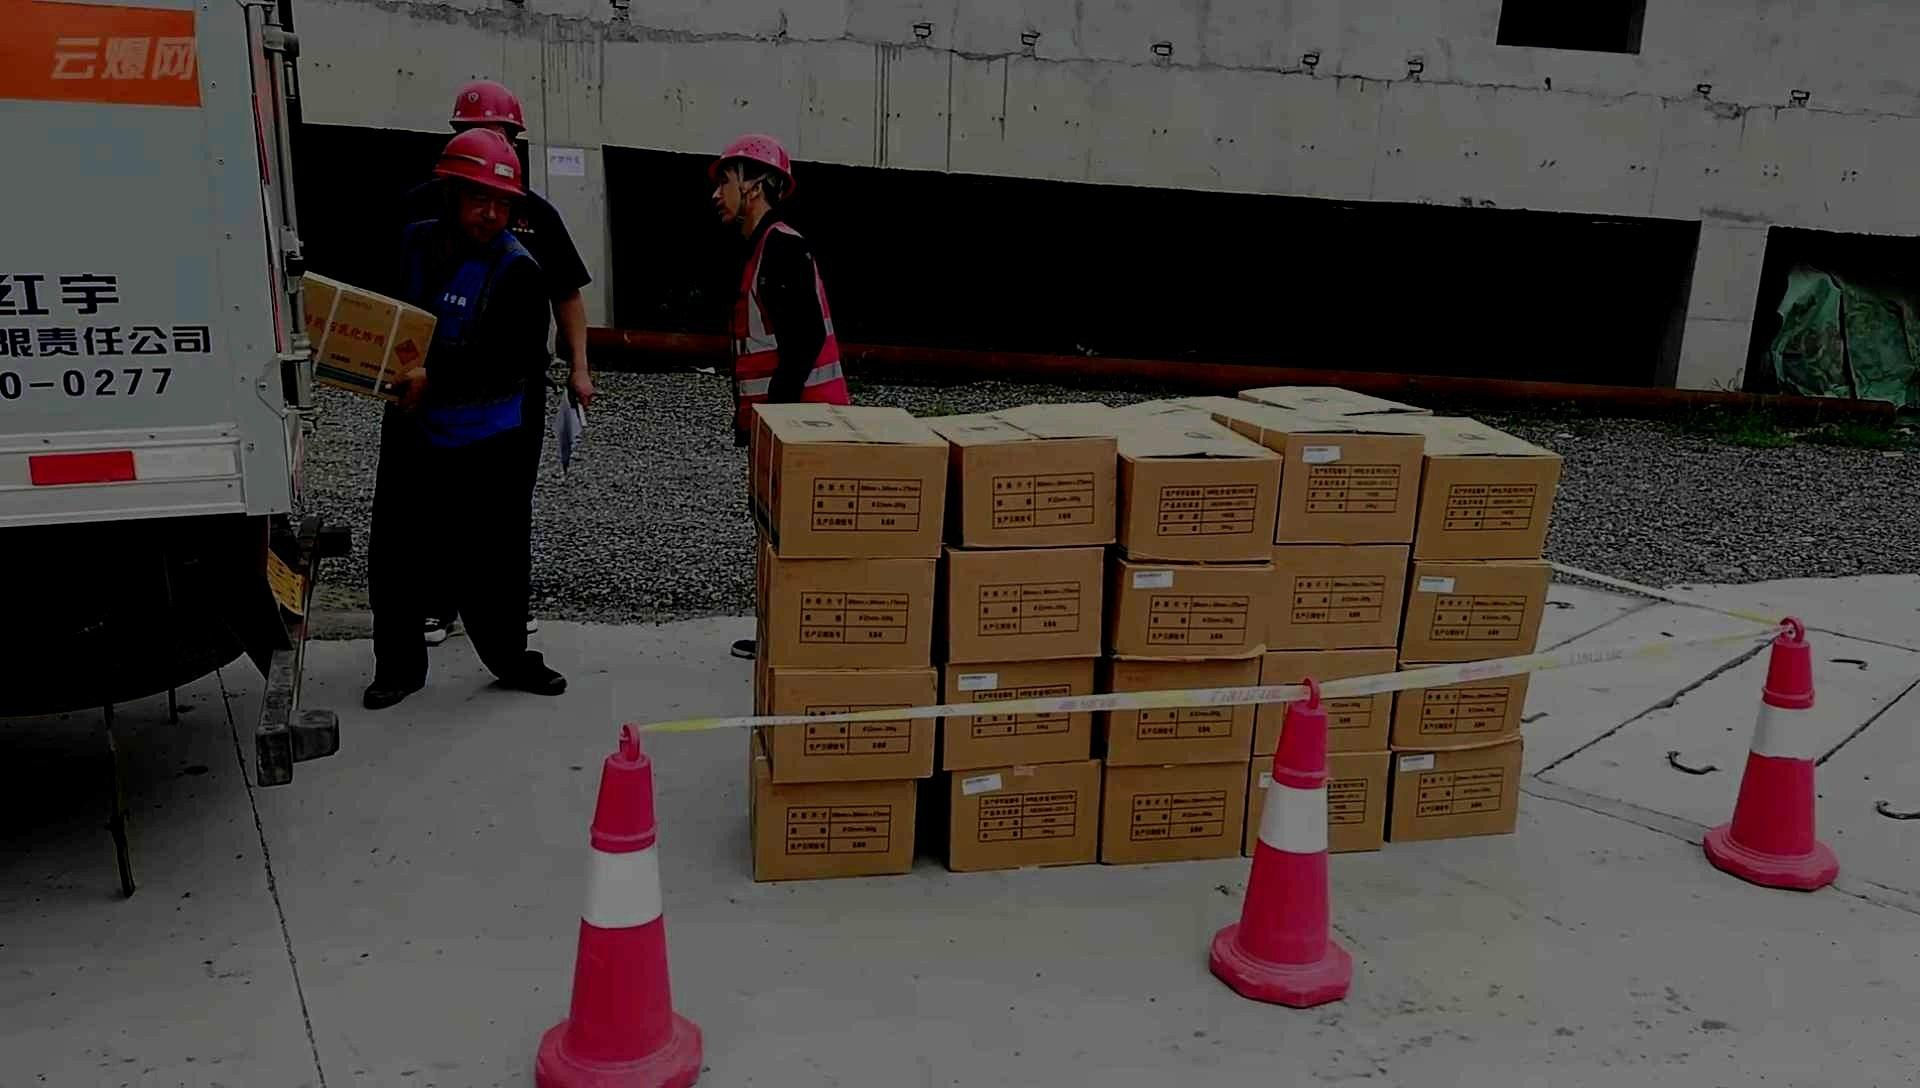helmet: (433, 127, 527, 245), (711, 135, 798, 224), (448, 78, 527, 150)
